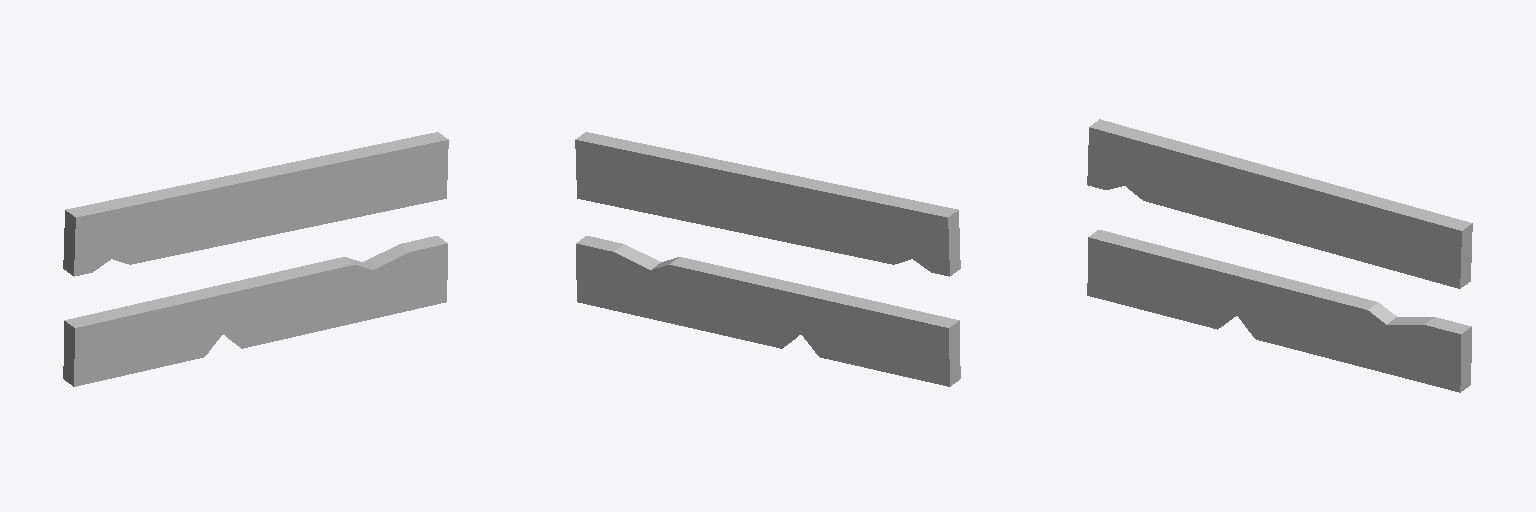
The model's file is Prop_Fence_Boards_2.obj.
3 renders of one model, left to right at view 1: azimuth 30°, elevation 25°; view 2: azimuth 150°, elevation 25°; view 3: azimuth 330°, elevation 25°, orthographic.
Visible parts, largest first — view 1: object1, object2; view 2: object1, object2; view 3: object1, object2.
Boxes of the visible parts, x1,y1,x2,y2 form: object1: [63, 132, 448, 276]; object2: [63, 236, 447, 386]; object1: [575, 132, 960, 276]; object2: [576, 236, 960, 386]; object1: [1087, 119, 1472, 288]; object2: [1087, 230, 1471, 392].
Size of the model in its own units: 1 by 0.4484 by 0.05.